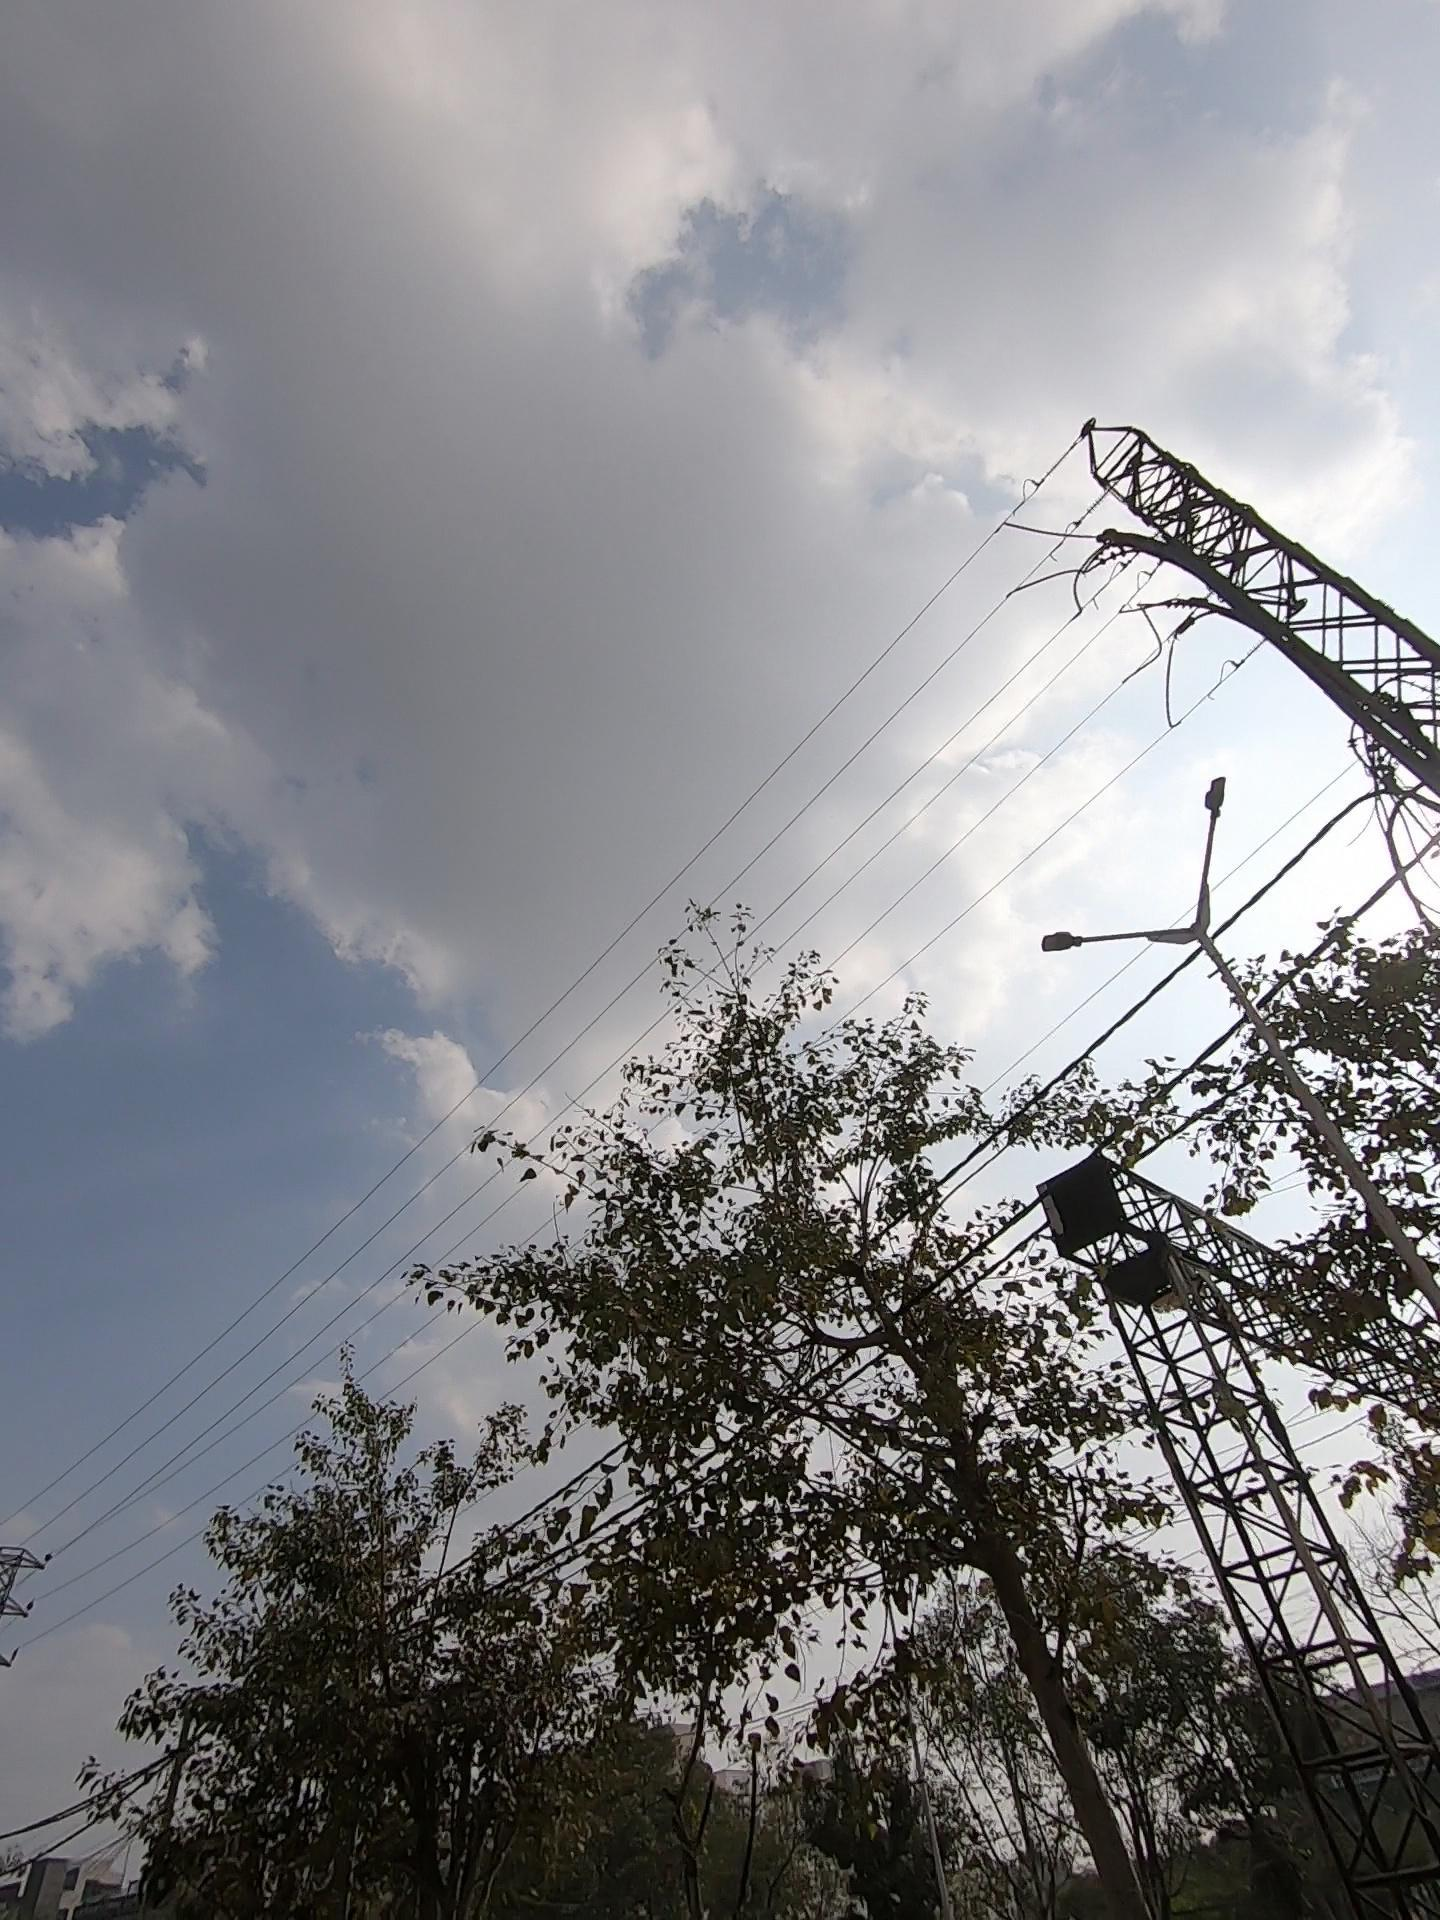off: (939, 786, 1343, 1031)
